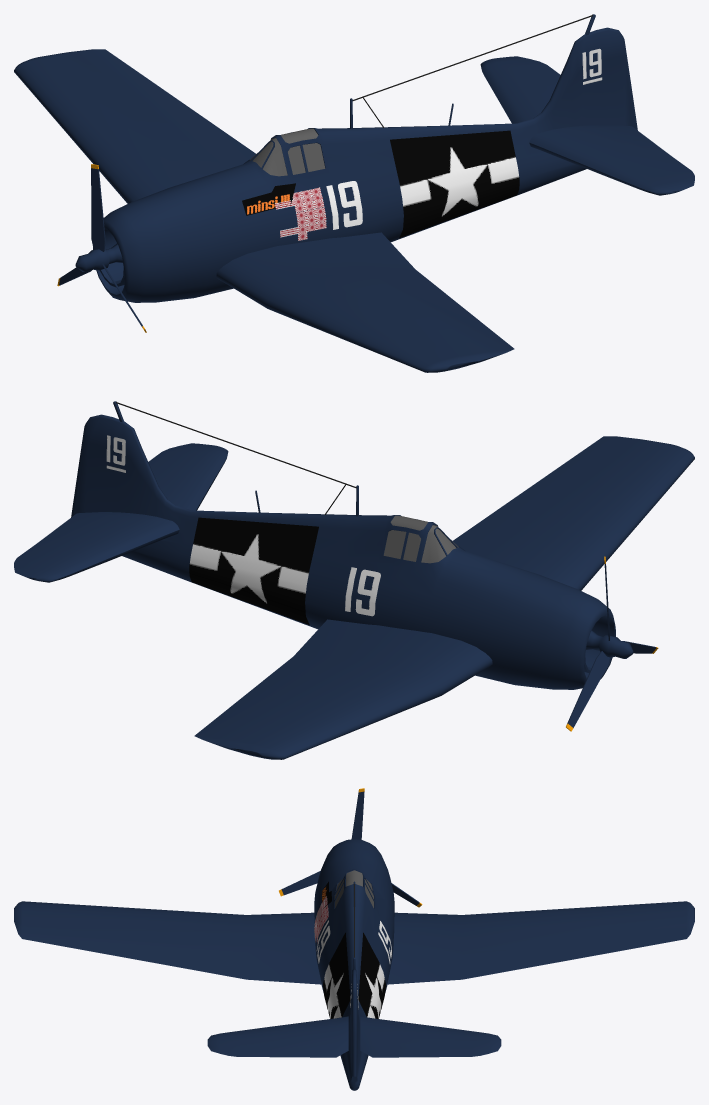
3 views of the same model, one above another, from view 1: azimuth 30°, elevation 25°; view 2: azimuth 150°, elevation 25°; view 3: azimuth 270°, elevation 25° (orthographic). The views are drawn at different scales.
Parts seen in each view (by area): view 1: 날개, 몸체, 옆별마크, 전범기, 프롭연결부.002, 옆19, 몰?루, 프롭연결부, 줄; view 2: 날개, 몸체, 옆별마크, 프롭연결부.002, 옆19, 프롭연결부, 줄; view 3: 날개, 몸체, 옆별마크, 프롭연결부.002.
Boxes of the visible parts, left/top/right/bottom form: 날개: left=14, top=49, right=694, bottom=372; 몸체: left=93, top=27, right=637, bottom=302; 옆별마크: left=390, top=130, right=519, bottom=237; 전범기: left=275, top=187, right=326, bottom=240; 프롭연결부.002: left=57, top=164, right=146, bottom=332; 옆19: left=326, top=181, right=362, bottom=229; 몰?루: left=242, top=183, right=295, bottom=215; 프롭연결부: left=75, top=243, right=122, bottom=271; 줄: left=350, top=14, right=595, bottom=129; 날개: left=14, top=436, right=694, bottom=759; 몸체: left=71, top=414, right=615, bottom=689; 옆별마크: left=189, top=517, right=318, bottom=624; 프롭연결부.002: left=566, top=556, right=658, bottom=731; 옆19: left=345, top=567, right=380, bottom=616; 프롭연결부: left=586, top=630, right=633, bottom=658; 줄: left=113, top=401, right=358, bottom=516; 날개: left=14, top=901, right=694, bottom=1057; 몸체: left=314, top=839, right=394, bottom=1090; 옆별마크: left=323, top=932, right=385, bottom=1018; 프롭연결부.002: left=279, top=788, right=422, bottom=907.
Bounding box in the file's own units: 182 × 56.09 × 235.
